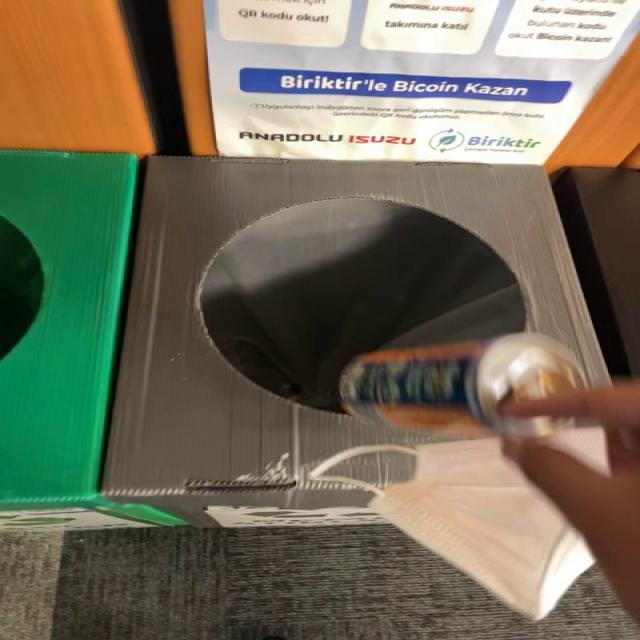bin: (104, 157, 608, 508)
metal: (340, 333, 587, 438)
